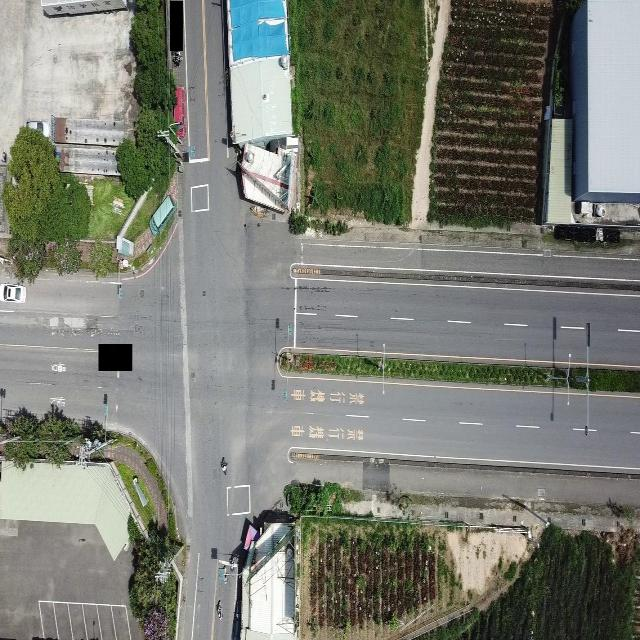car: (172, 83, 186, 140), (24, 118, 50, 139), (2, 282, 26, 302)
